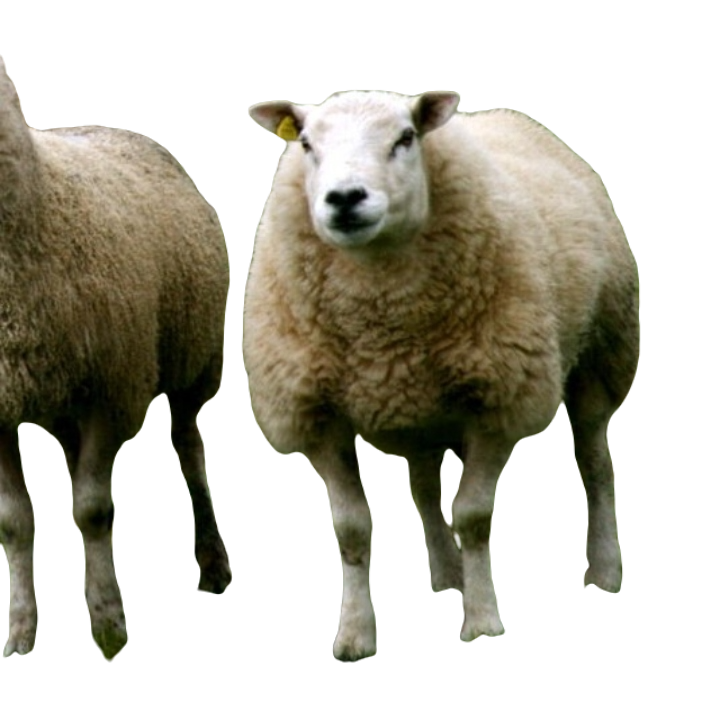Sheep: (239, 81, 646, 670)
